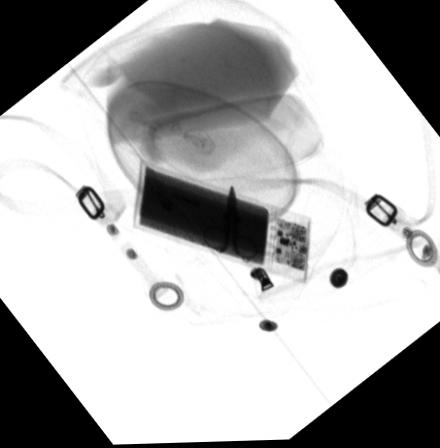Powerbank: (129, 157, 313, 288)
Scissors: (199, 182, 263, 267)
